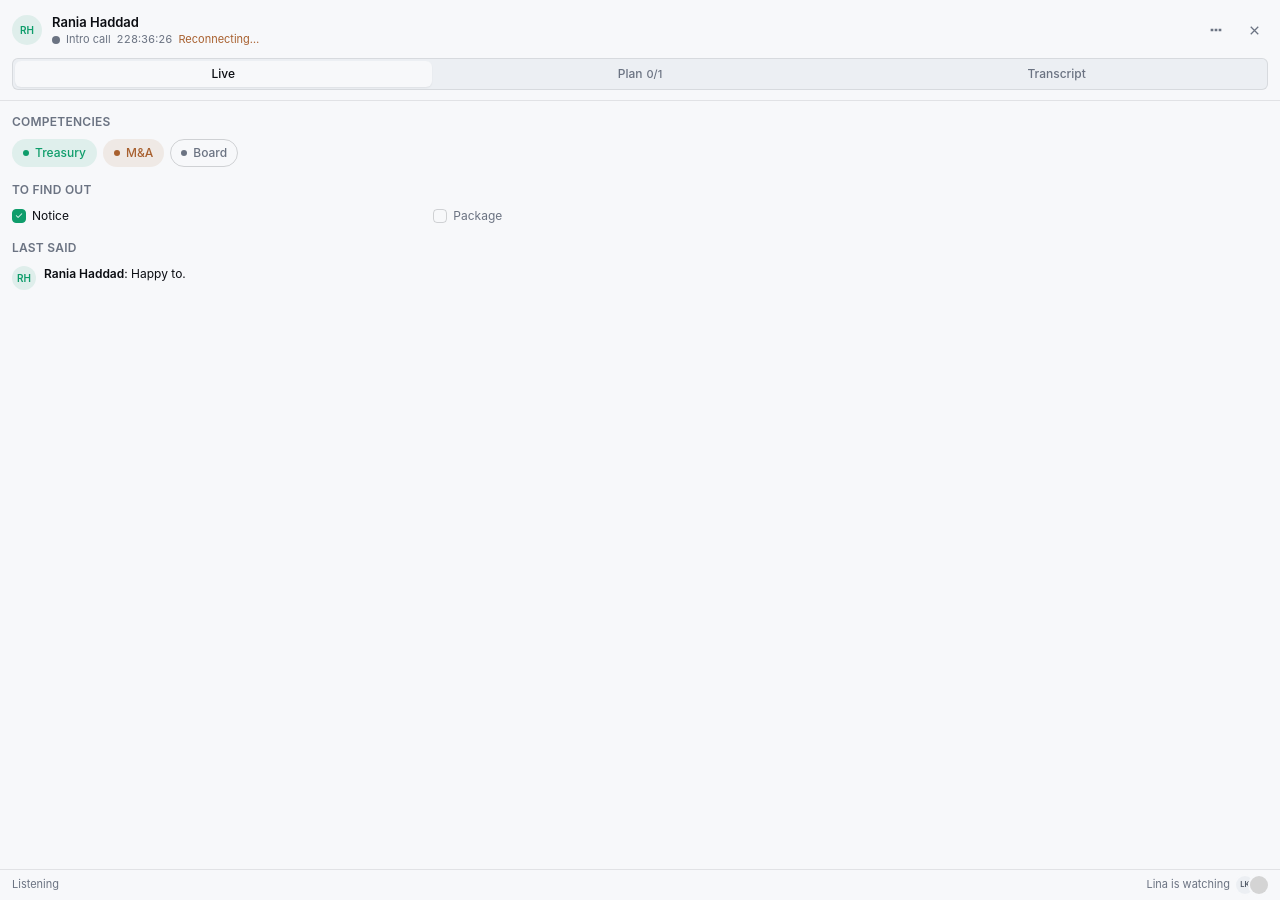
Scenario: CopilotPanel › closes its menu on a click elsewhere and on Escape, without picking anything
The width and height of the screenshot is (1280, 900).
Click the button named "Copilot options": (1216, 30) [1202,16,1230,44]
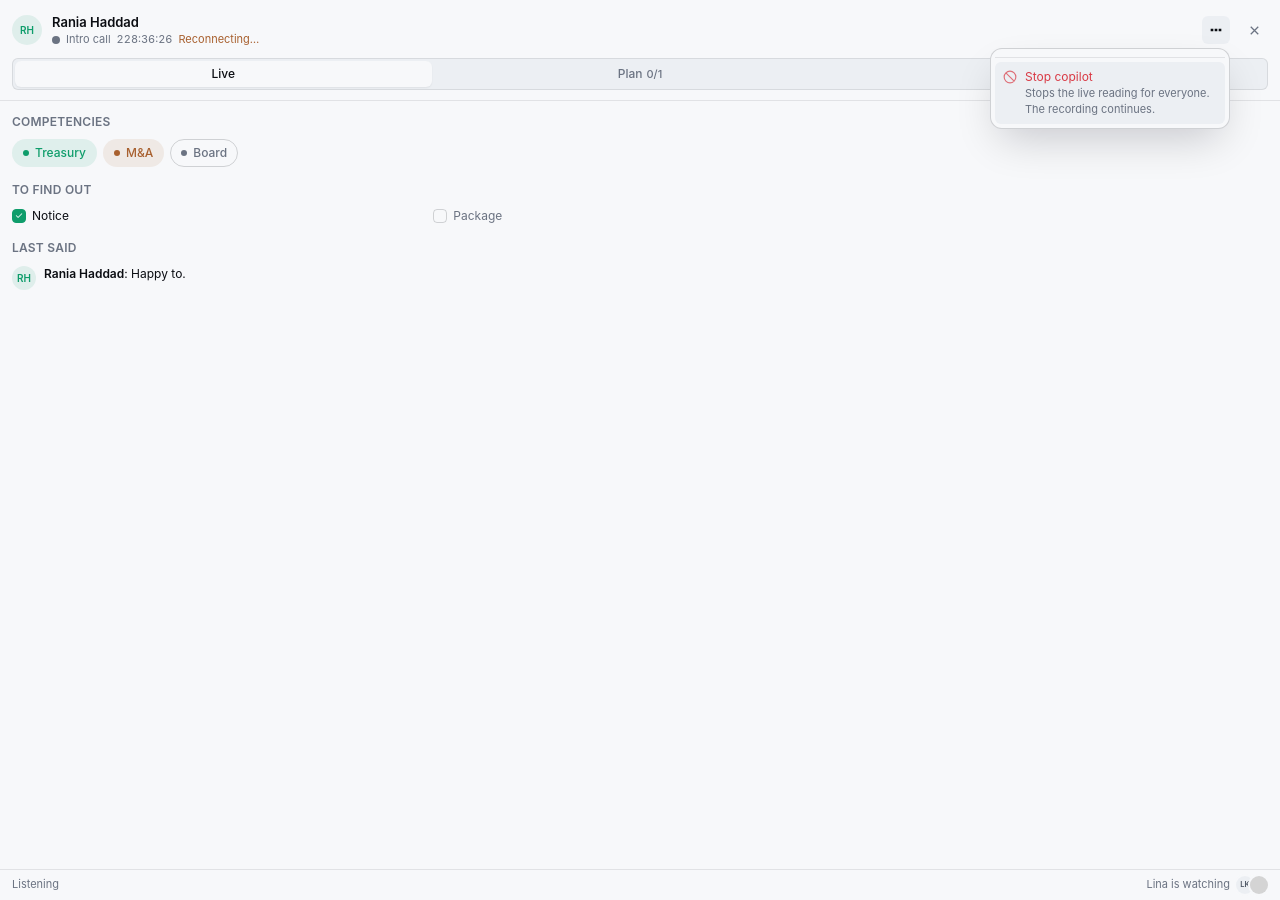
Press the mouse on the text "Rania Haddad: Happy to.": (115, 274) [44,265,186,283]
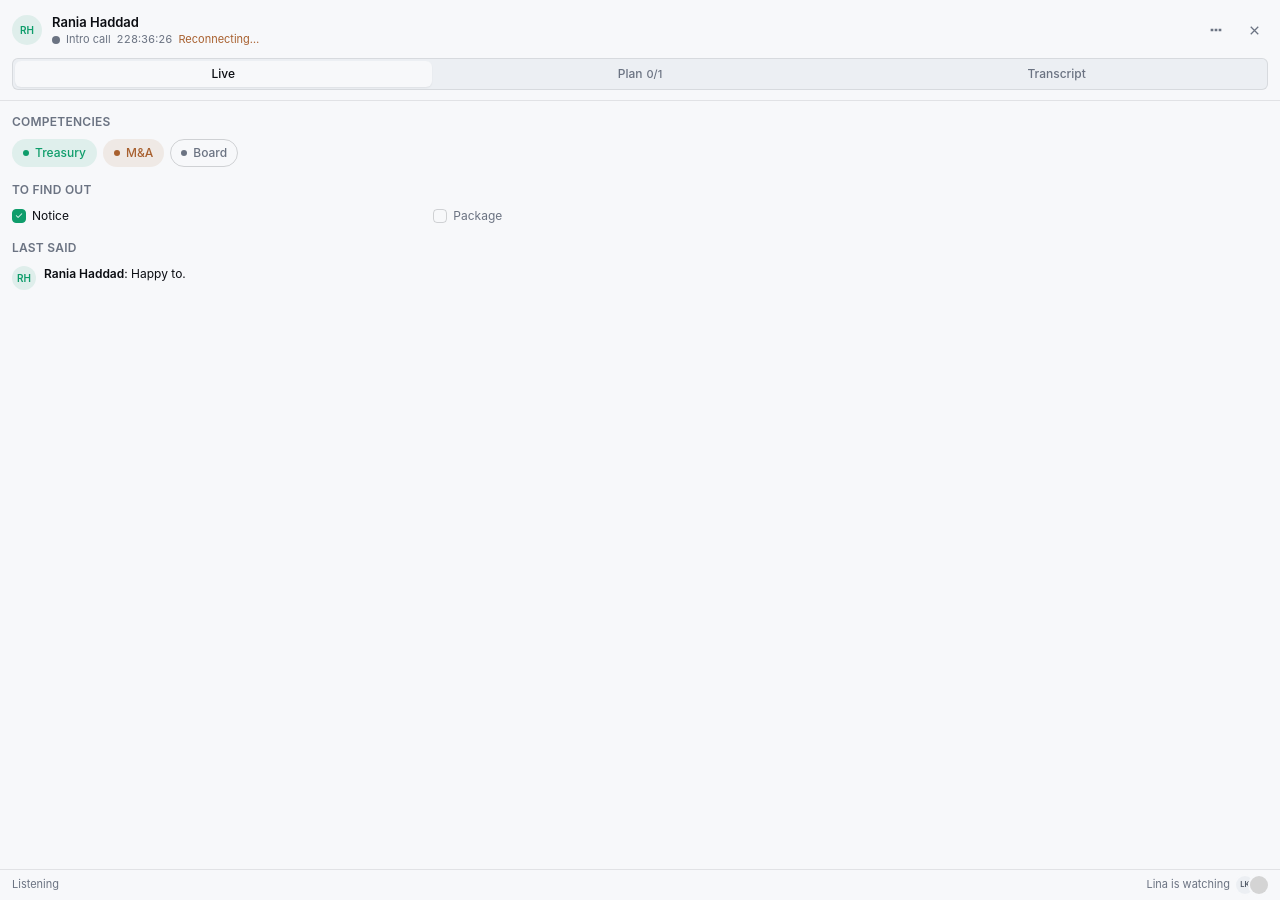
Result: the menu is gone
Click the button named "Copilot options": (1216, 30) [1202,16,1230,44]
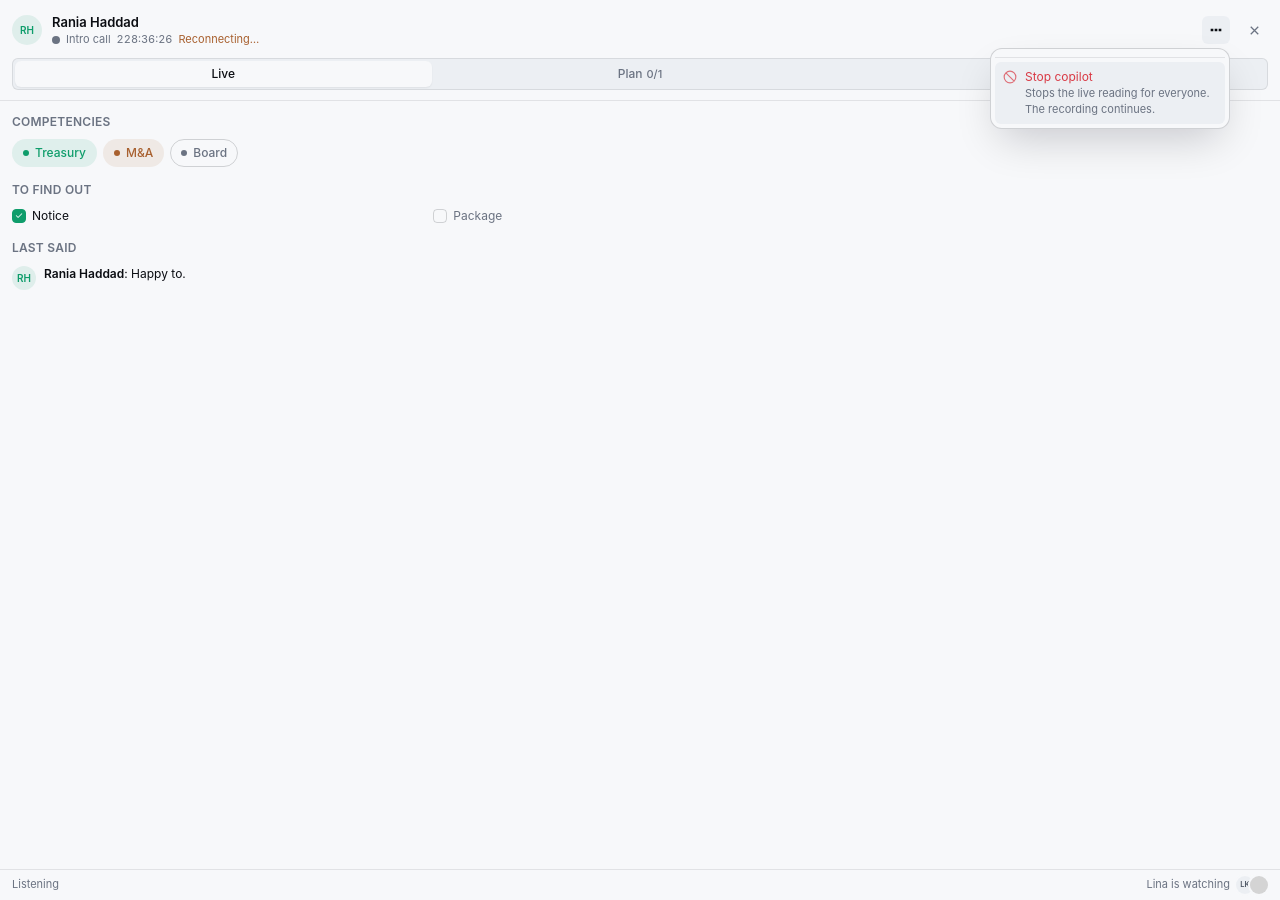
Press Escape
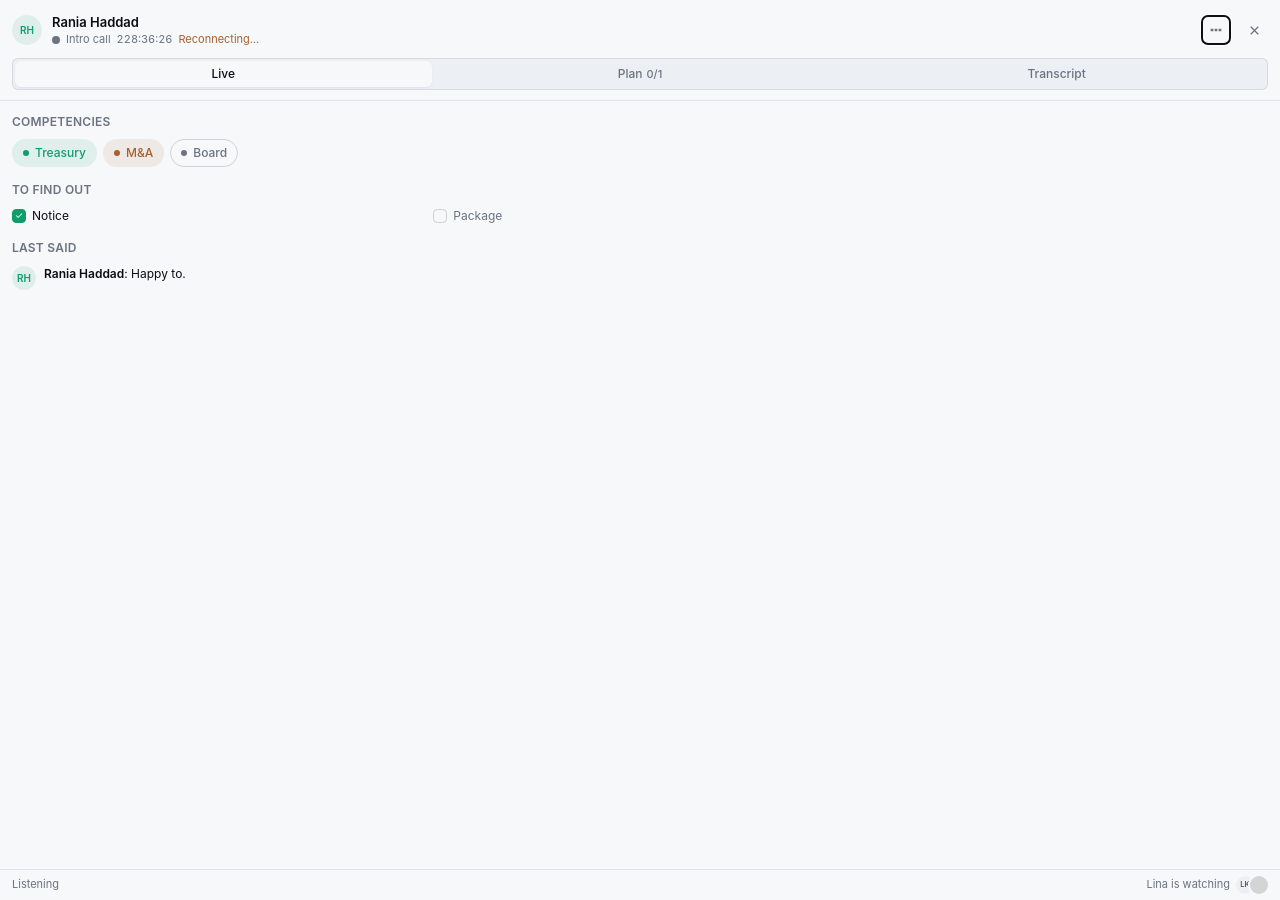
Result: the menu is gone
